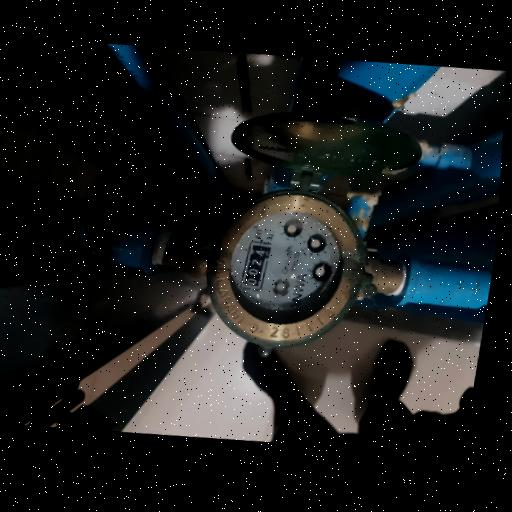0: (243, 274, 261, 287), (245, 265, 263, 278)
2: (247, 255, 265, 269)
4: (250, 244, 272, 259)
border_water_meter_number: (239, 239, 272, 292)
